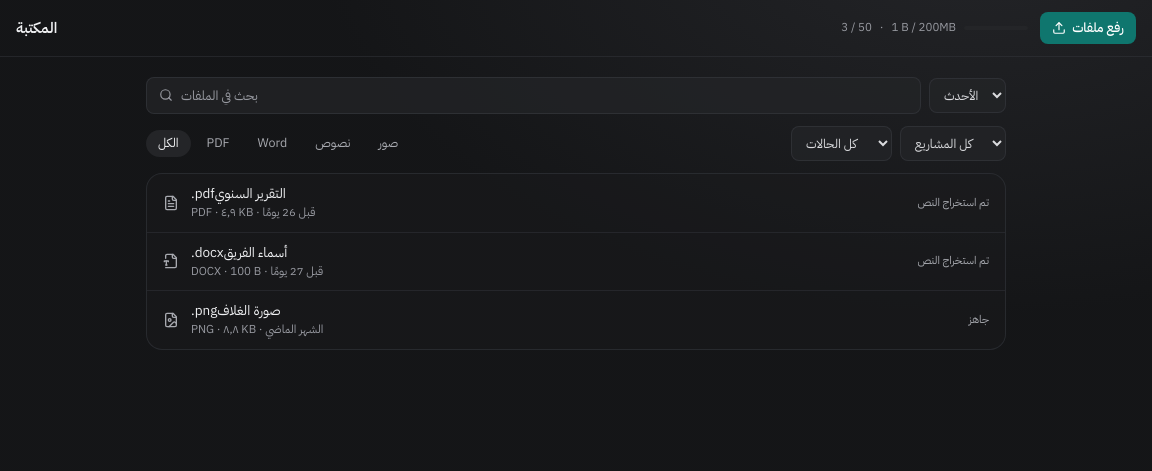
Test: المكتبة: استخدام في محادثة › فشل الربط ⇒ تُحذف المحادثة الفارغة، ولا انتقال
The width and height of the screenshot is (1152, 471).
Click the button "أسماء الفريق.docx DOCX · 100 B · قبل 27 يومًا".
click(255, 252)  # box [163, 232, 905, 290]
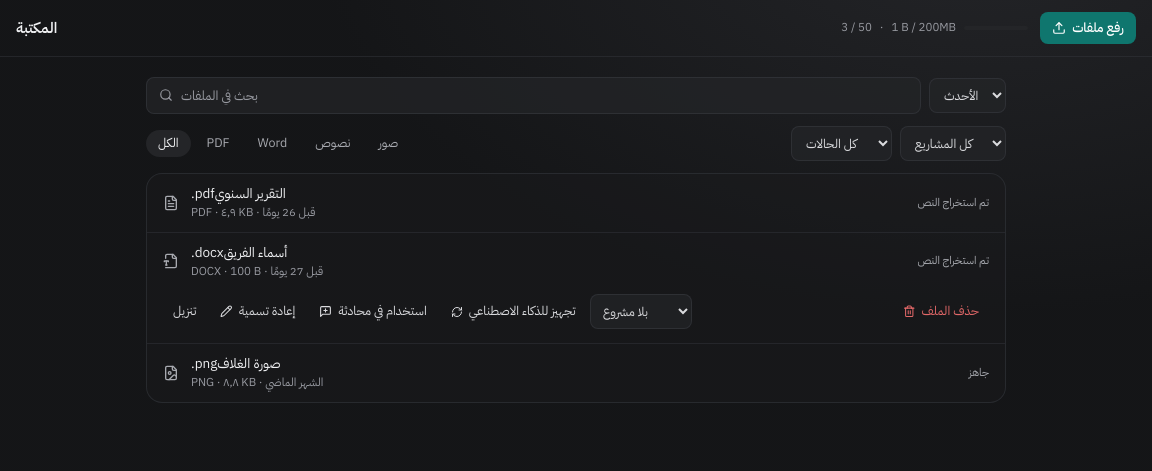
Click the button "استخدام في محادثة".
click(373, 312)  # box [309, 296, 437, 327]
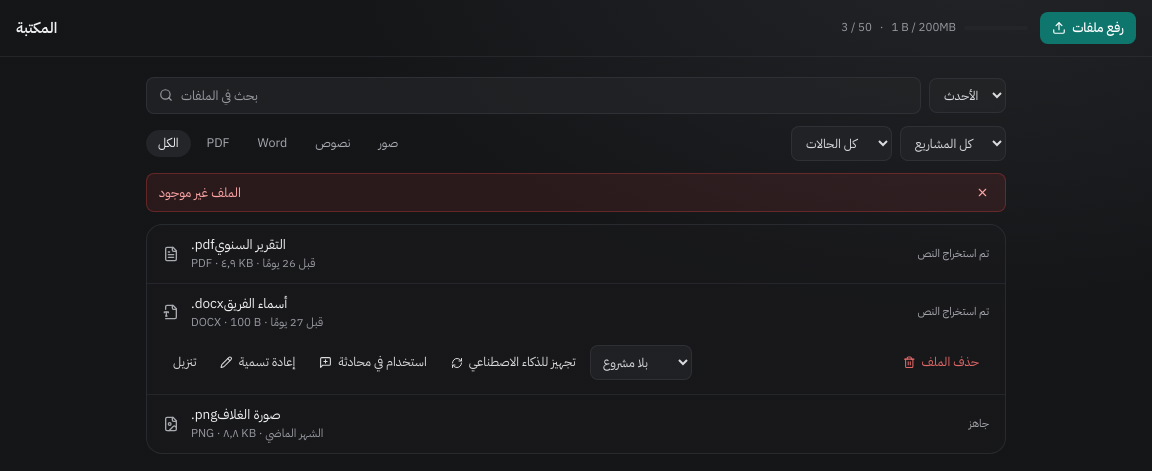
Check: the message reads "الملف غير موجود", box [159, 183, 241, 202]
